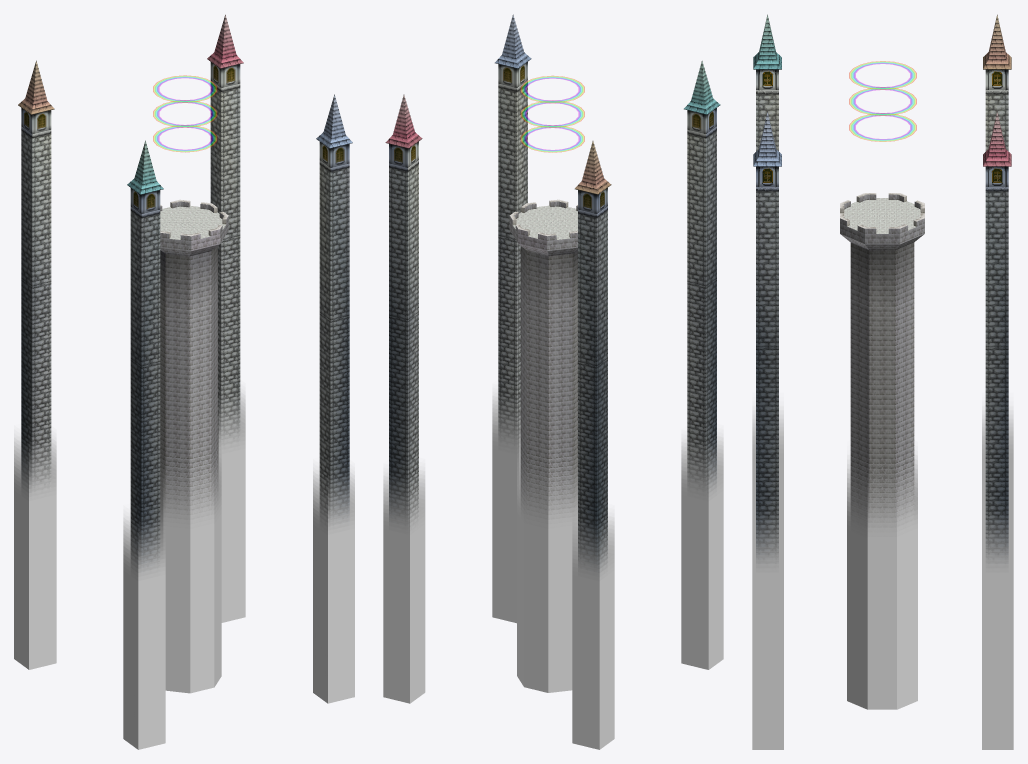
Rendered from habatake_all.glb.
3 renders of one model, left to right at view 1: azimuth 30°, elevation 25°; view 2: azimuth 150°, elevation 25°; view 3: azimuth 270°, elevation 25°, orthographic. The views are drawn at different scales.
Visible parts, largest first — view 1: habatake_all; view 2: habatake_all; view 3: habatake_all.
Part boxes in pixels (bbox=[...]): habatake_all: bbox=[14, 14, 354, 749]; habatake_all: bbox=[383, 14, 723, 749]; habatake_all: bbox=[752, 14, 1013, 749].
Bounding box in the file's own units: 9.16 × 24.3 × 9.1.
Materials: 7 (7 with a texture image).
